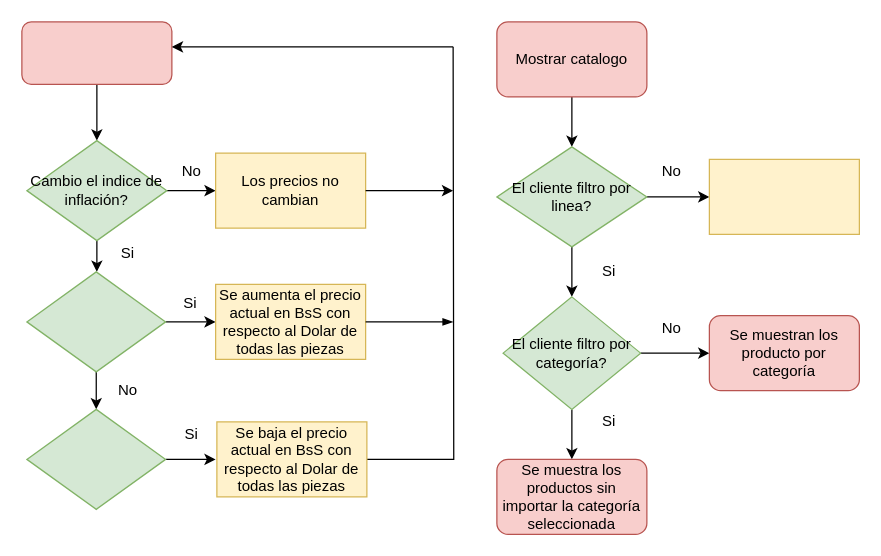
The diagram is 881 pixels wide and 556 high, and some of its shapes have lost their labels. The shapes that lost their labels are listed below. From the top down, each one's box as (x1, y1, x2, y2) in pixels, then its label:
(21, 21, 172, 84): Pasan 3 meses
(708, 158, 859, 234): No se muestra ningún producto
(26, 271, 166, 372): Subio el indice?
(26, 408, 166, 509): Bajo el indice?
